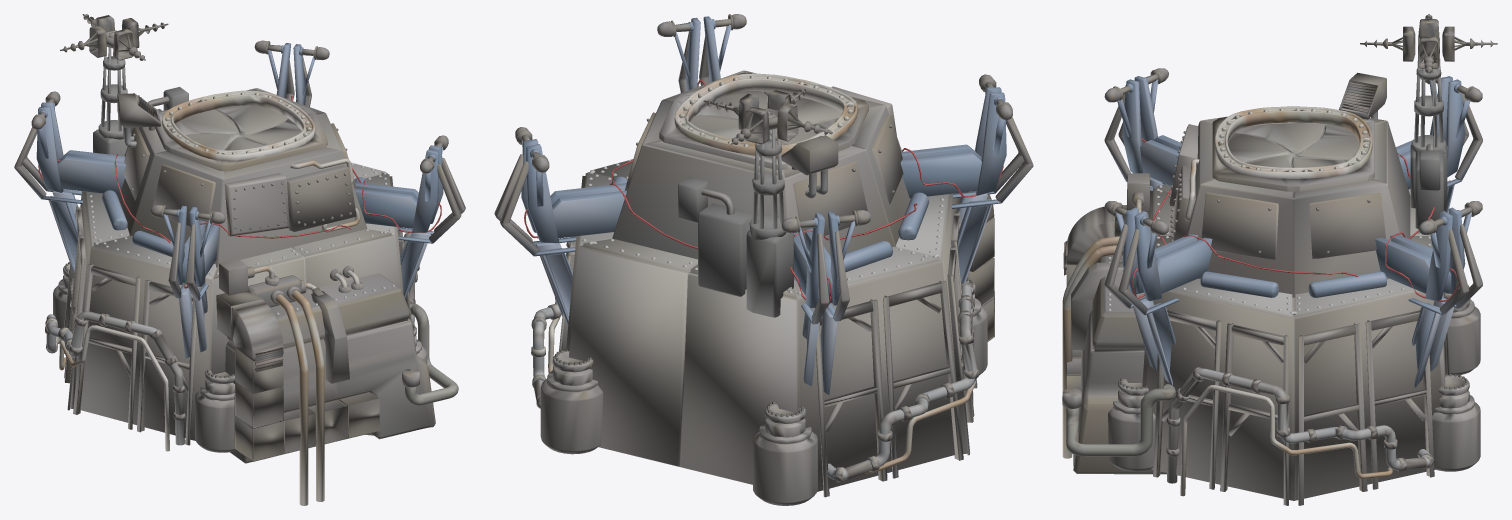
File: roboport.glb
3 renders of one model, left to right at view 1: azimuth 30°, elevation 25°; view 2: azimuth 150°, elevation 25°; view 3: azimuth 270°, elevation 25°, orthographic. The views are drawn at different scales.
Parts seen in each view (by area): view 1: modelo; view 2: modelo; view 3: modelo.
Boxes of the visible parts, x1,y1,x2,y2 form: modelo: (14,14,465,505); modelo: (494,14,1033,505); modelo: (1062,14,1497,505).
Size of the model in its own units: 7.78 by 7.8 by 7.61.
